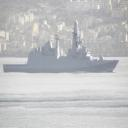Fragata: (3, 22, 122, 75)
